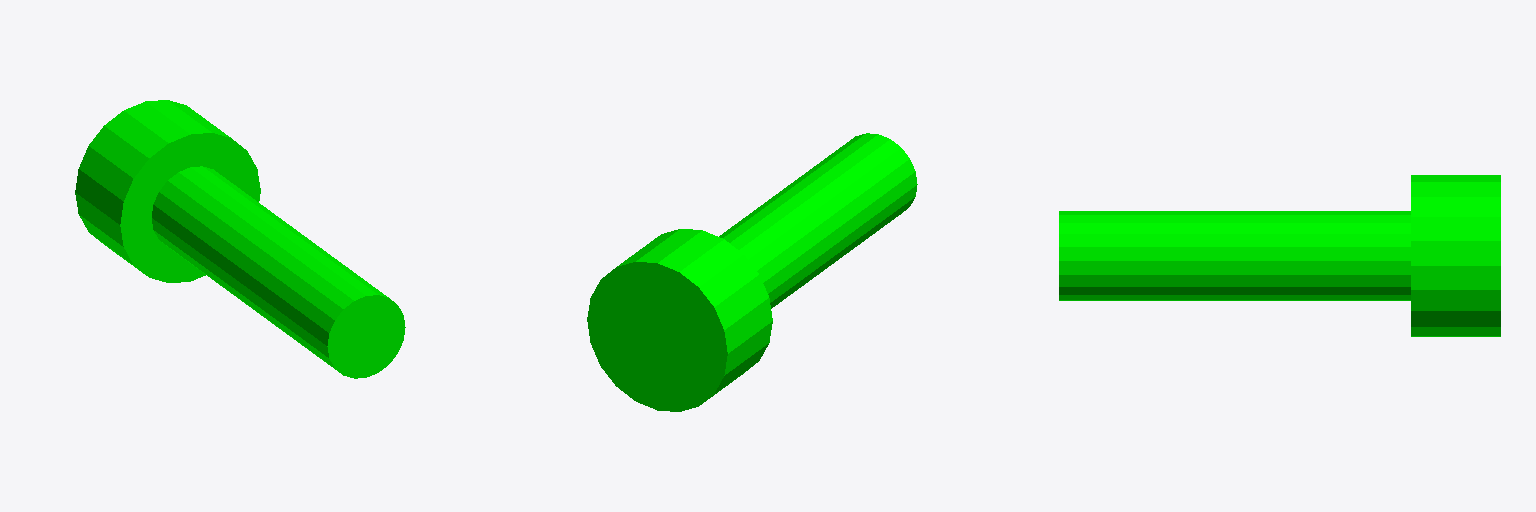
File: green_buoy.obj
The picture shows the model from 3 angles: view 1: azimuth 30°, elevation 25°; view 2: azimuth 150°, elevation 25°; view 3: azimuth 270°, elevation 25°; orthographic projection.
Parts seen in each view (by area): view 1: Plane; view 2: Plane; view 3: Plane.
Boxes of the visible parts, x1=… form: Plane: x1=75, y1=100, x2=405, y2=378; Plane: x1=587, y1=133, x2=917, y2=411; Plane: x1=1059, y1=175, x2=1500, y2=336.
Bounding box in the file's own units: 0.4572 × 0.4572 × 1.24.